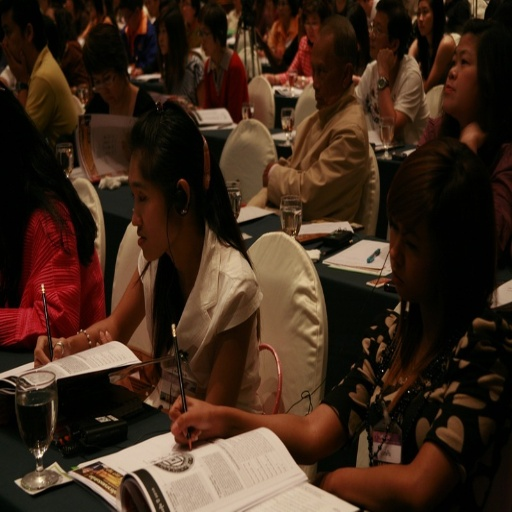hand: (158, 383, 246, 450), (94, 329, 131, 390), (32, 334, 67, 367), (1, 40, 26, 86), (375, 45, 396, 73), (260, 161, 277, 188)
